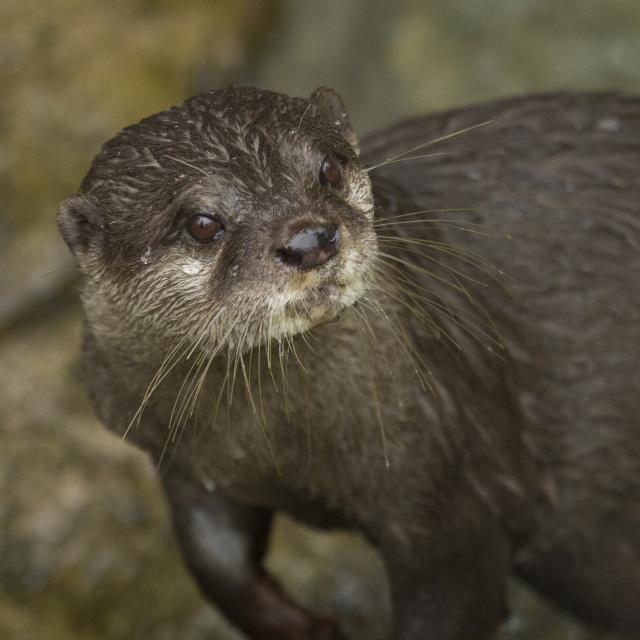otter: (68, 90, 450, 485)
